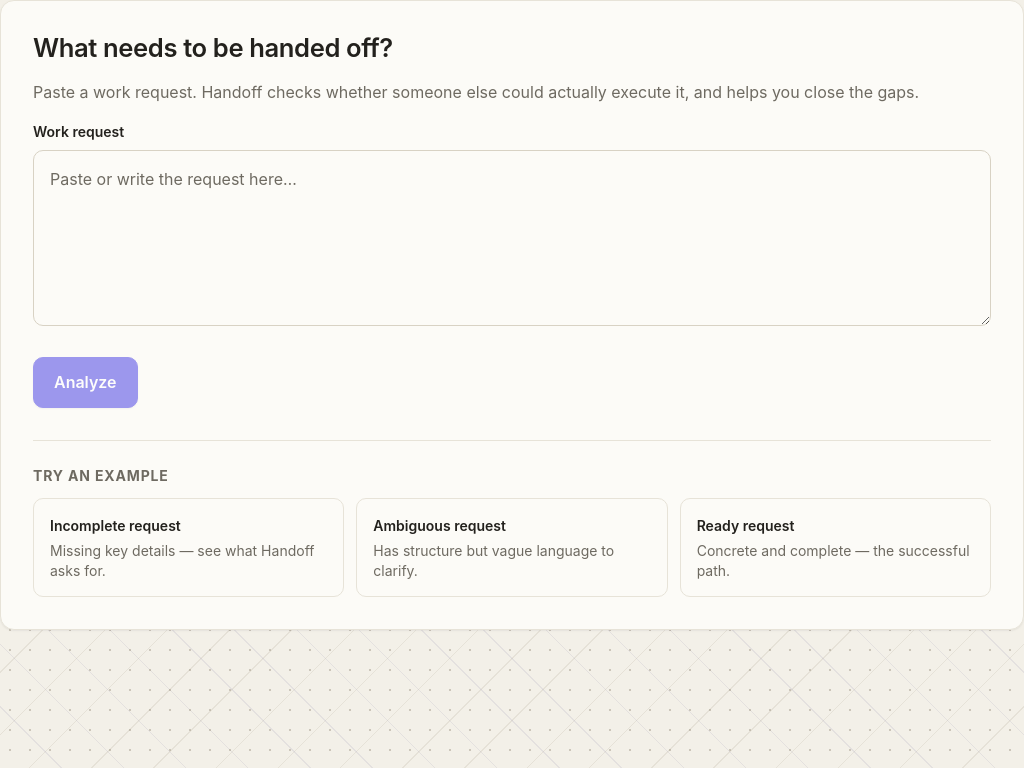
it: InputView › shows a safe error with retry when analysis fails
In the text box labelled "Work request": [512, 238] box 33,150 -> 991,326, type "text"
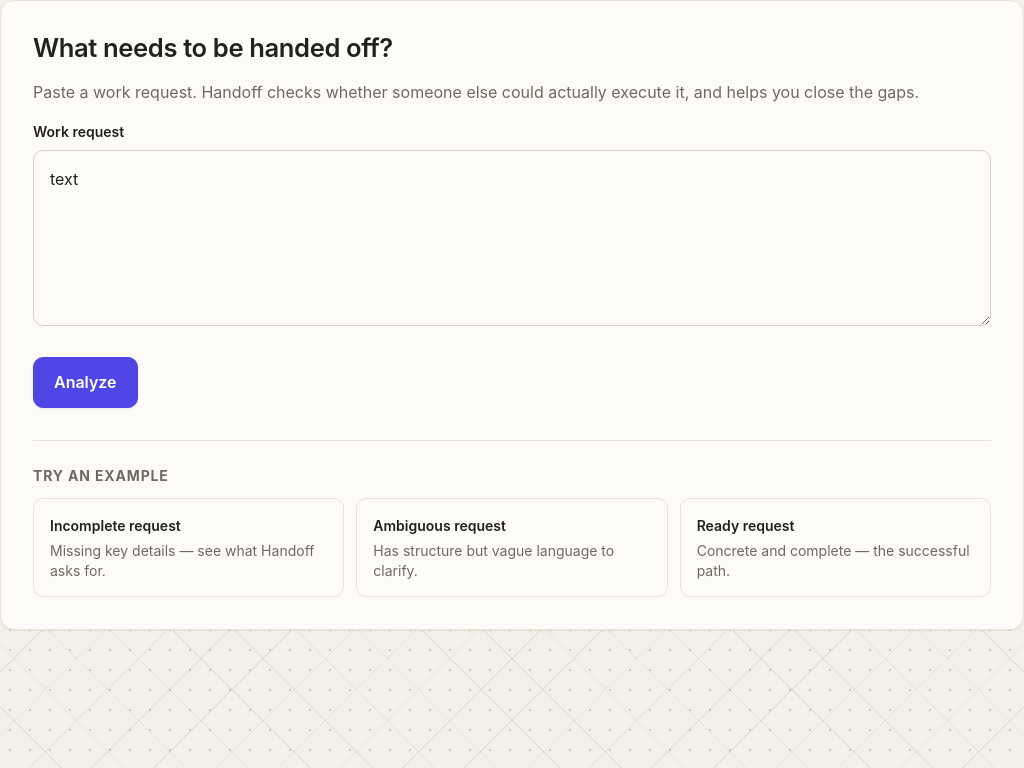
Click the button "Analyze": [85, 382] box 33,357 -> 138,408
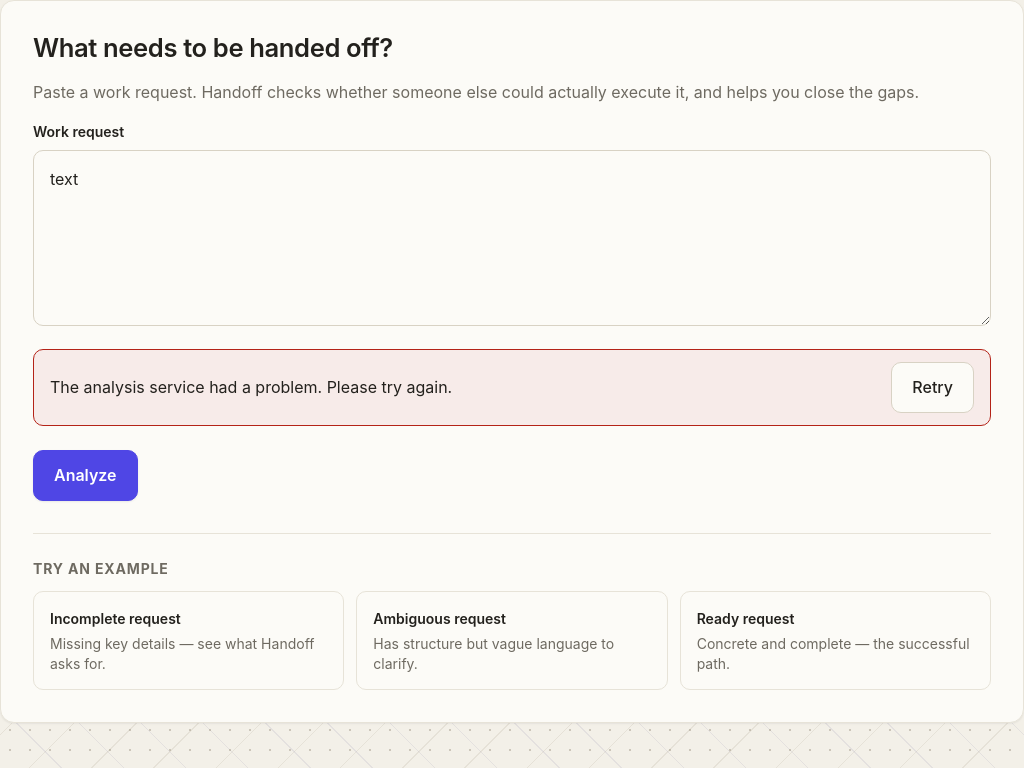
Expected: the message shows "analysis service had a problem", 50,377 -> 452,397
Expected: the button "Retry" is shown, 891,362 -> 974,413
